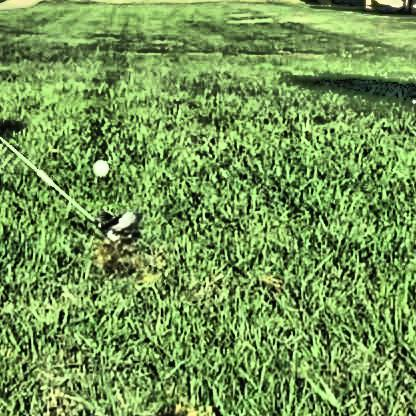golfball: (89, 155, 108, 174)
